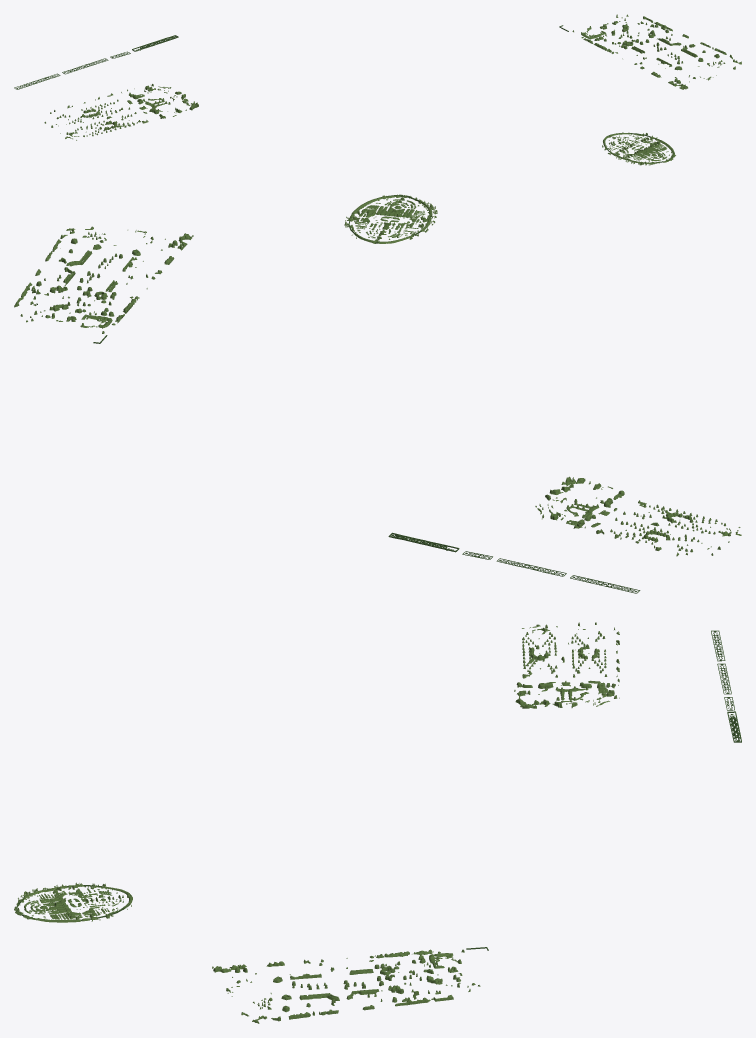
The model's file is sebes.glb.
3 views of the same model, one above another, from view 1: azimuth 30°, elevation 25°; view 2: azimuth 150°, elevation 25°; view 3: azimuth 270°, elevation 25° (orthographic). The views are drawn at different scales.
Parts seen in each view (by area): view 1: Cecilio_Vegetacao, Parterre_Vegetacao, Rosaleda_Vegetacao; view 2: Cecilio_Vegetacao, Parterre_Vegetacao, Rosaleda_Vegetacao; view 3: Cecilio_Vegetacao, Parterre_Vegetacao, Rosaleda_Vegetacao.
Part boxes in pixels (x1,y1,x2,y2): Cecilio_Vegetacao: (572, 14, 741, 89); Parterre_Vegetacao: (44, 84, 198, 140); Rosaleda_Vegetacao: (602, 132, 675, 165); Cecilio_Vegetacao: (14, 226, 193, 333); Parterre_Vegetacao: (535, 476, 741, 556); Rosaleda_Vegetacao: (344, 194, 437, 243); Cecilio_Vegetacao: (212, 949, 480, 1023); Parterre_Vegetacao: (514, 622, 619, 708); Rosaleda_Vegetacao: (14, 882, 132, 922).
Bounding box in the file's own units: 992 × 20.3 × 749.
2 materials, 1 textured.
